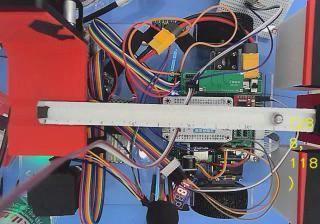ironball: (273, 113, 283, 123)
